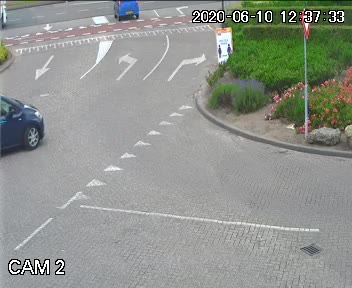car: (0, 83, 46, 161), (109, 0, 142, 23)
